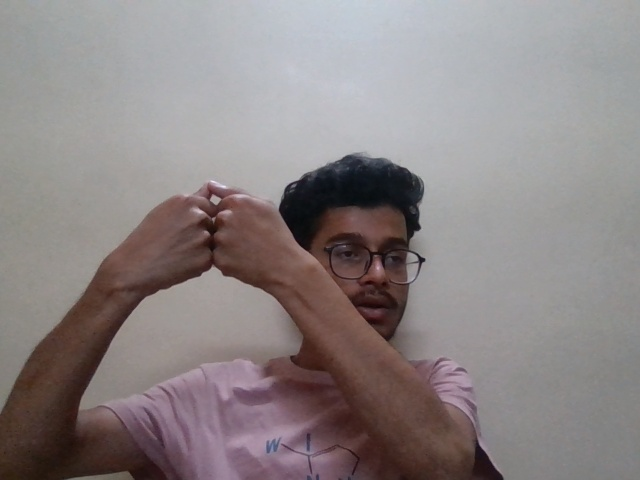sorry: (100, 175, 305, 317)
